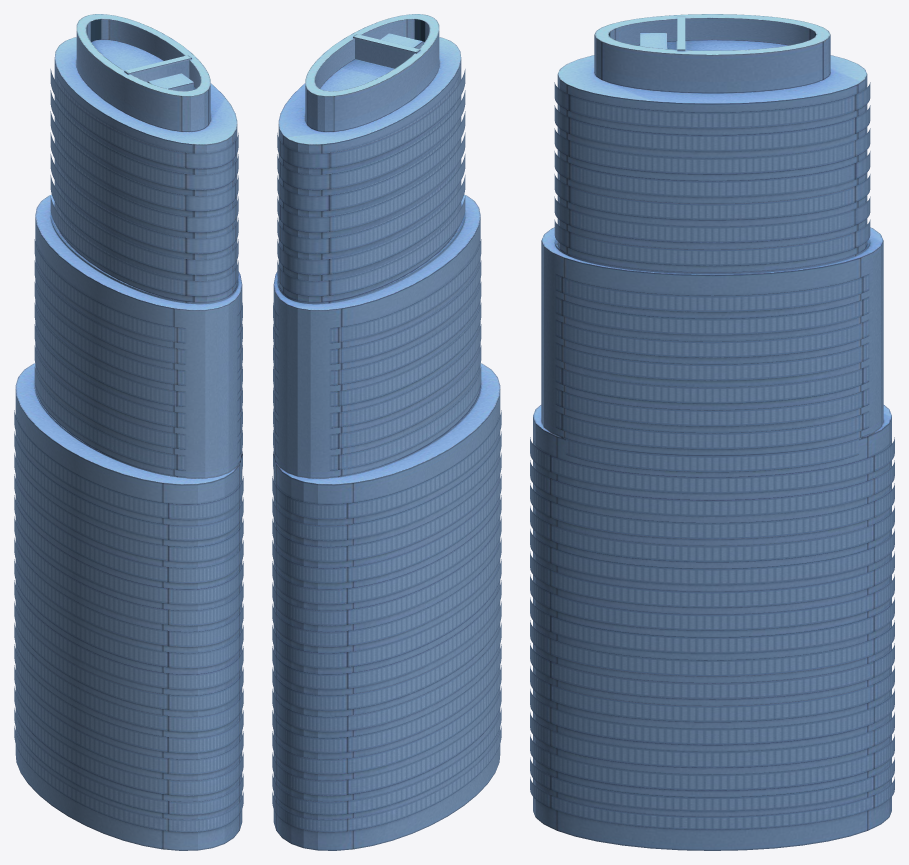
The model's file is lipstick_f_white_onlyblender_nofactor.glb.
3 renders of one model, left to right at view 1: azimuth 30°, elevation 25°; view 2: azimuth 150°, elevation 25°; view 3: azimuth 270°, elevation 25°, orthographic. The views are drawn at different scales.
Parts seen in each view (by area): view 1: Empty_Mesh; view 2: Empty_Mesh; view 3: Empty_Mesh.
Part boxes in pixels (box(x1,y1,x2,y2)): Empty_Mesh: box(14, 14, 243, 850); Empty_Mesh: box(272, 14, 501, 850); Empty_Mesh: box(530, 14, 894, 850).
Bounding box in the file's own units: 5.54 × 24.91 × 10.49.
1 material, 1 textured.
